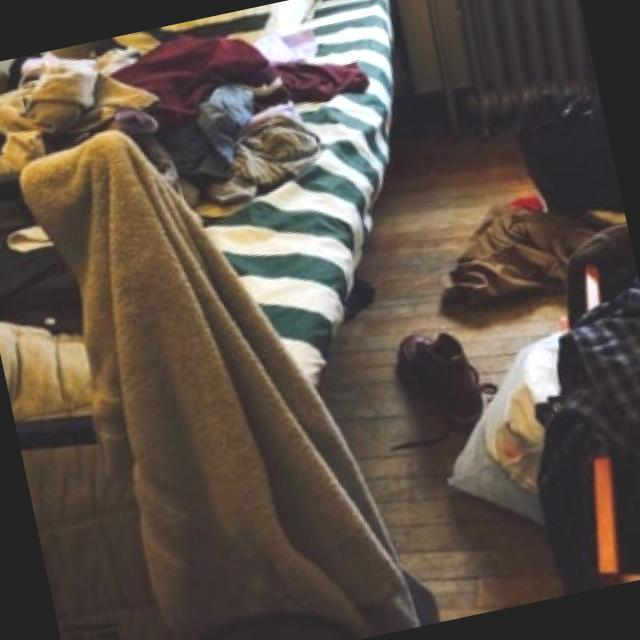mess: (0, 0, 446, 525), (374, 91, 640, 614)
